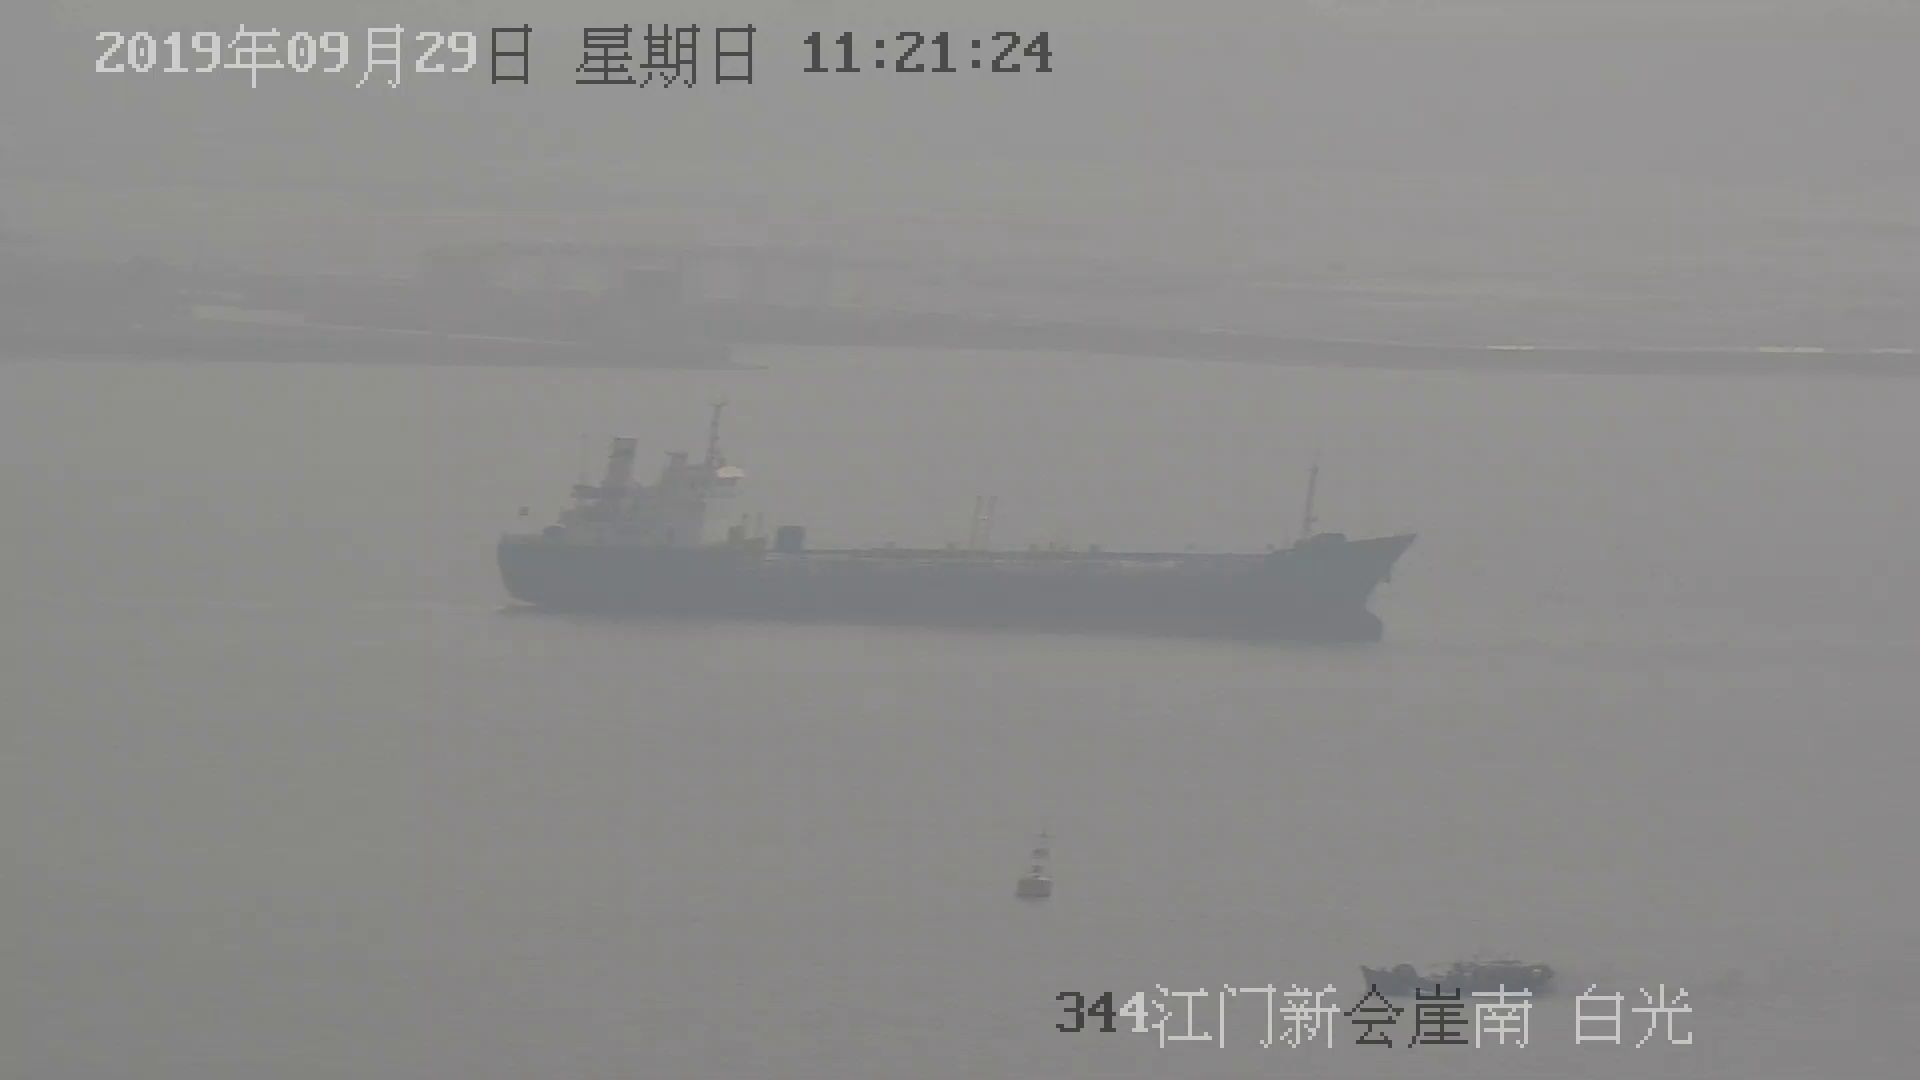ship: (489, 401, 1422, 655)
